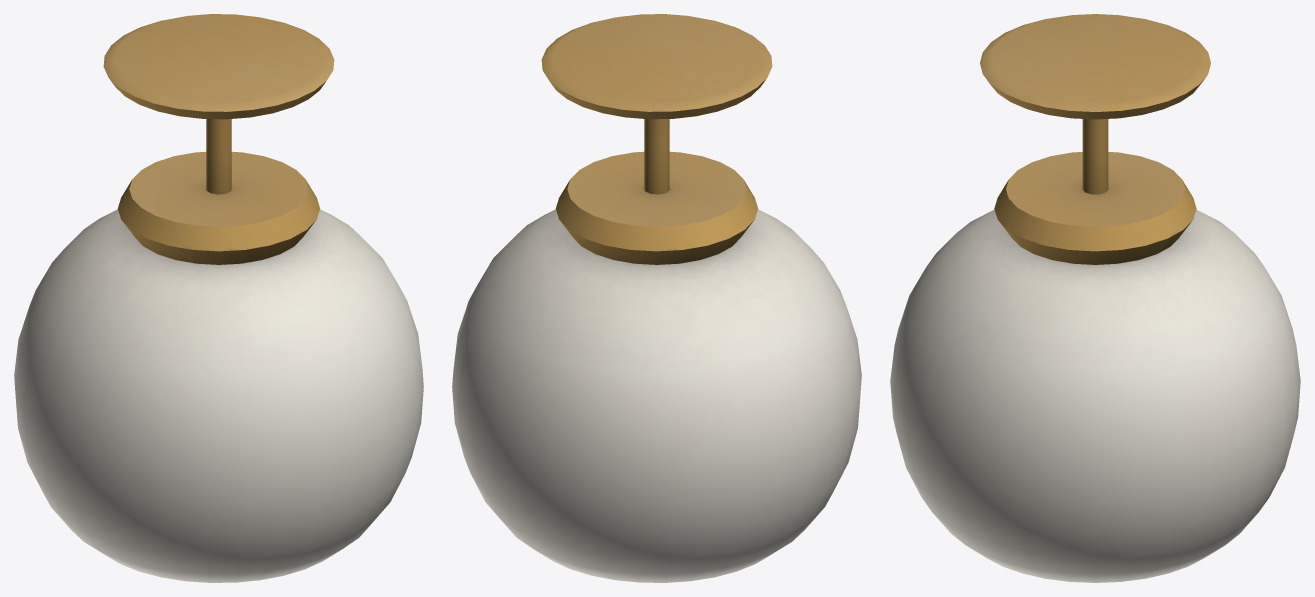
File: ceiling_globe.glb
3 renders of one model, left to right at view 1: azimuth 30°, elevation 25°; view 2: azimuth 150°, elevation 25°; view 3: azimuth 270°, elevation 25°, orthographic.
Visible parts, largest first — view 1: ceiling_globe; view 2: ceiling_globe; view 3: ceiling_globe.
Boxes of the visible parts, x1,y1,x2,y2 form: ceiling_globe: [14, 14, 423, 582]; ceiling_globe: [452, 14, 861, 582]; ceiling_globe: [890, 14, 1300, 582].
Bounding box in the file's own units: 0.2839 × 0.372 × 0.2839.
Materials: 1 (1 with a texture image).
